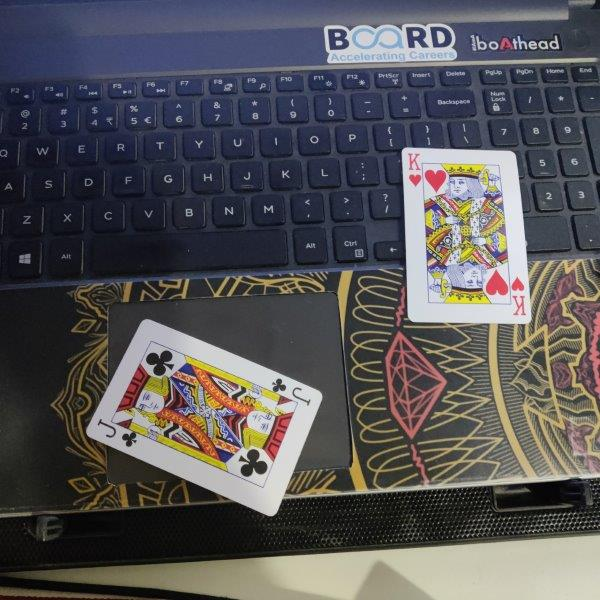Jack of Clubs: (85, 319, 325, 518)
King of Hearts: (401, 147, 532, 326)
